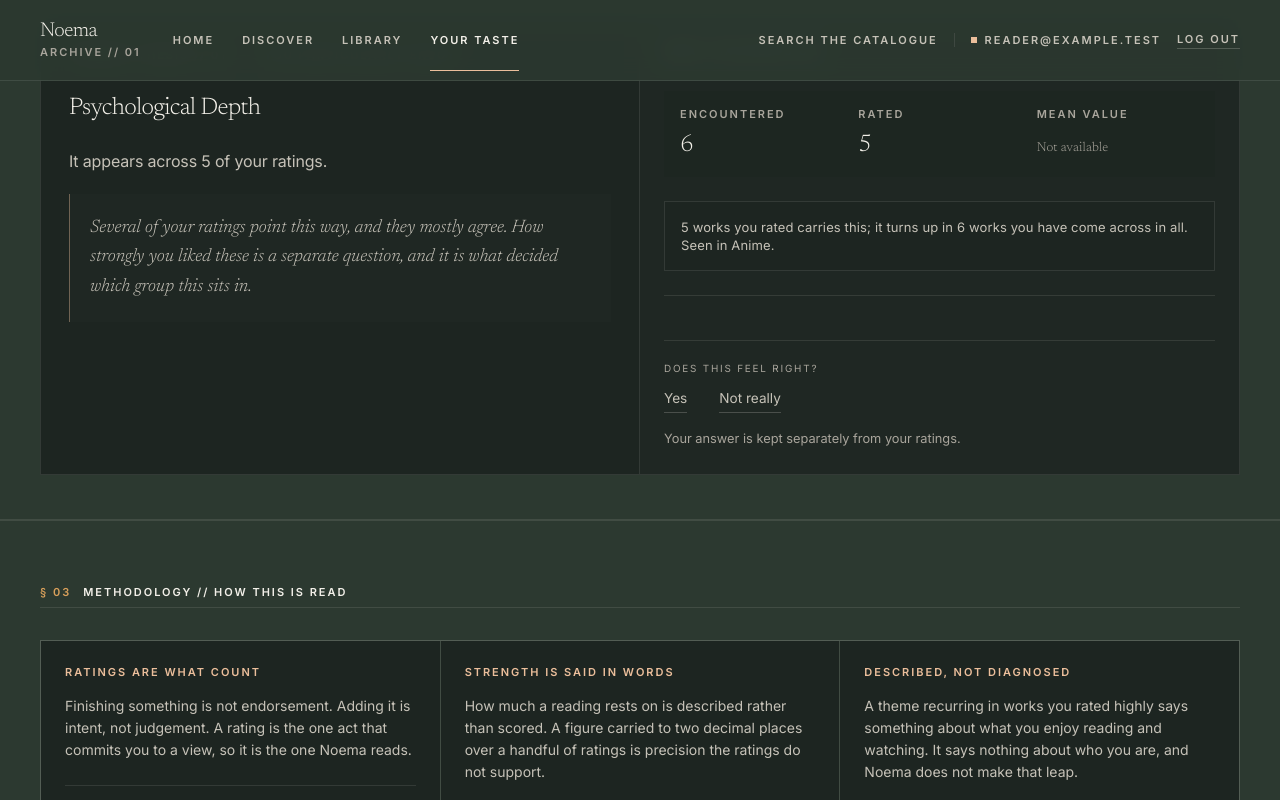
Test: TasteProfile › confirms a disagreement without claiming the model has changed
(page scrolled)
Check: the heading "Psychological Depth" is shown, box [69,96,260,120]
Click the button "Not really" at [750, 401], box [719,388,781,413]
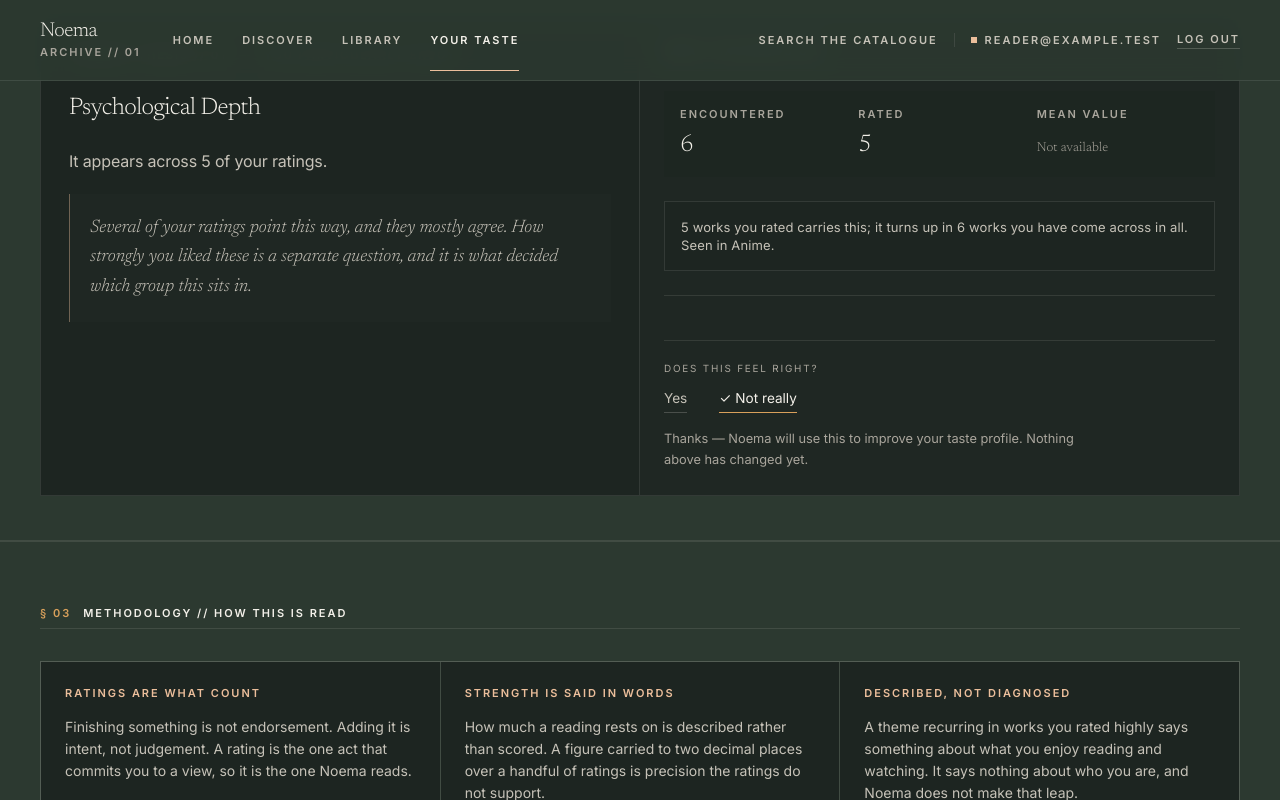
Check: the text "Thanks — Noema will use this" shows "Nothing above has changed yet", box [664,431,1074,467]
